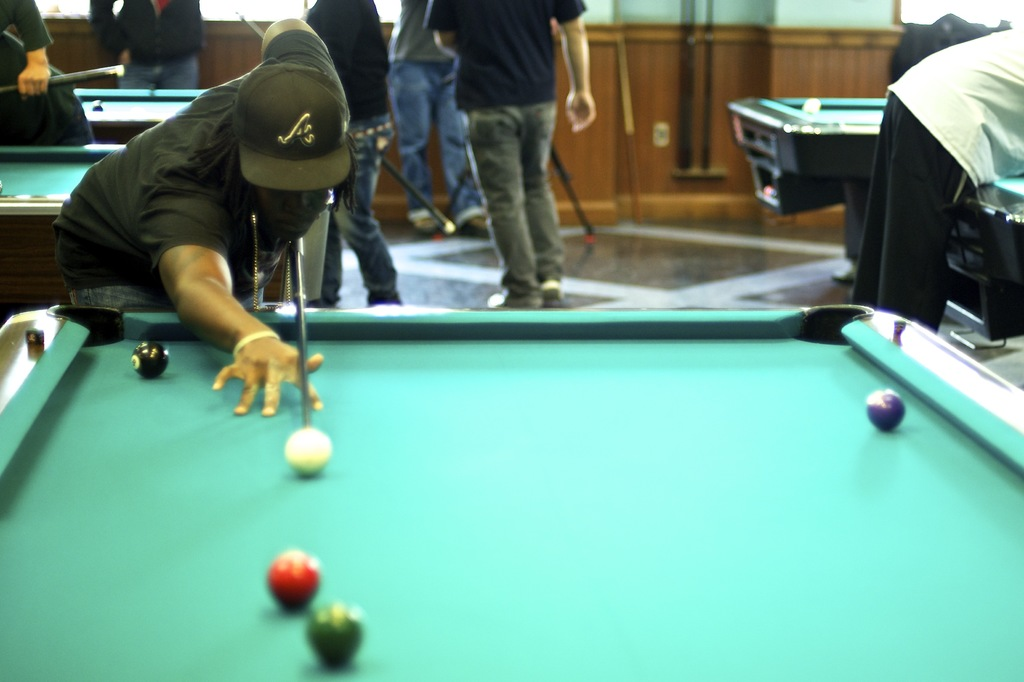Ball: (266, 544, 322, 612), (306, 604, 365, 668), (281, 428, 332, 479), (865, 386, 908, 434), (130, 337, 172, 383)
